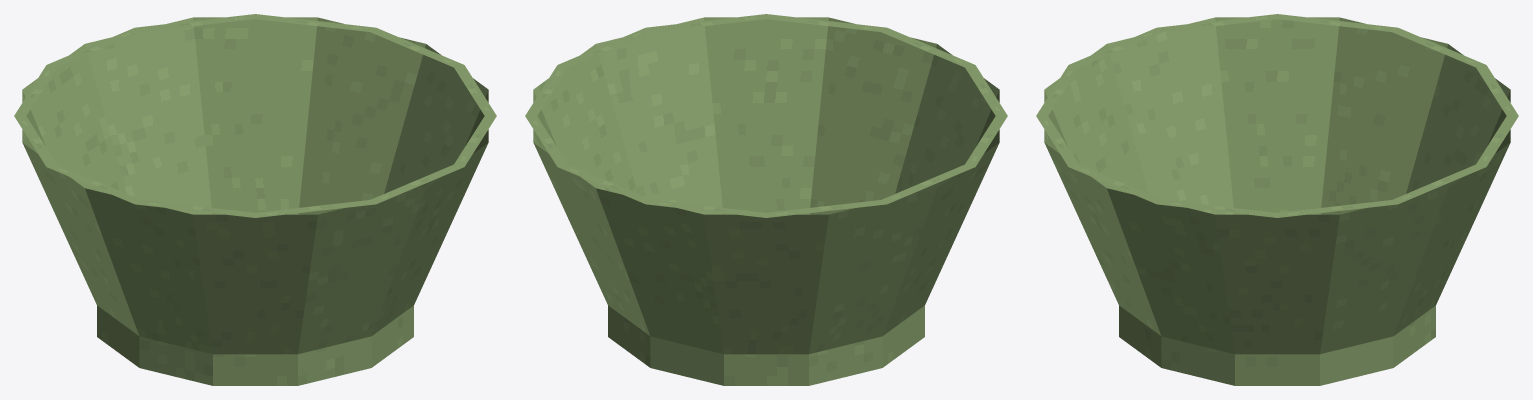
File: plastic_bowl_kids.glb
3 renders of one model, left to right at view 1: azimuth 30°, elevation 25°; view 2: azimuth 150°, elevation 25°; view 3: azimuth 270°, elevation 25°, orthographic.
Visible parts, largest first — view 1: block_raised sides, block_thick foot, block_rolled rim 9, block_rolled rim 10, block_rolled rim 3, block_rolled rim 4, block_rolled rim 2, block_rolled rim 5, block_rolled rim 8, block_rolled rim 11, block_rolled rim 0, block_rolled rim 1 (+2 smaller); view 2: block_raised sides, block_thick foot, block_rolled rim 1, block_rolled rim 2, block_rolled rim 7, block_rolled rim 8, block_rolled rim 6, block_rolled rim 9, block_rolled rim 0, block_rolled rim 3, block_rolled rim 4, block_rolled rim 5 (+2 smaller); view 3: block_raised sides, block_thick foot, block_rolled rim 5, block_rolled rim 6, block_rolled rim 0, block_rolled rim 11, block_rolled rim 1, block_rolled rim 10, block_rolled rim 4, block_rolled rim 7, block_rolled rim 2, block_rolled rim 3 (+2 smaller).
Part boxes in pixels (x1,y1,x2,y2): block_raised sides: [22, 17, 488, 354]; block_thick foot: [97, 214, 413, 385]; block_rolled rim 9: [135, 14, 255, 31]; block_rolled rim 10: [255, 14, 375, 31]; block_rolled rim 3: [255, 200, 375, 217]; block_rolled rim 4: [135, 200, 255, 217]; block_rolled rim 2: [370, 164, 463, 204]; block_rolled rim 5: [47, 164, 140, 204]; block_rolled rim 8: [47, 27, 140, 67]; block_rolled rim 11: [370, 27, 463, 67]; block_rolled rim 0: [454, 65, 496, 115]; block_rolled rim 1: [454, 116, 496, 166]; block_raised sides: [533, 17, 999, 354]; block_thick foot: [608, 214, 924, 385]; block_rolled rim 1: [646, 14, 766, 31]; block_rolled rim 2: [766, 14, 886, 31]; block_rolled rim 7: [766, 200, 886, 217]; block_rolled rim 8: [646, 200, 766, 217]; block_rolled rim 6: [881, 164, 974, 204]; block_rolled rim 9: [558, 164, 651, 204]; block_rolled rim 0: [558, 27, 651, 67]; block_rolled rim 3: [881, 27, 974, 67]; block_rolled rim 4: [965, 65, 1007, 115]; block_rolled rim 5: [965, 116, 1007, 166]; block_raised sides: [1044, 17, 1510, 354]; block_thick foot: [1119, 214, 1435, 385]; block_rolled rim 5: [1157, 14, 1277, 31]; block_rolled rim 6: [1277, 14, 1397, 31]; block_rolled rim 0: [1157, 200, 1277, 217]; block_rolled rim 11: [1277, 200, 1397, 217]; block_rolled rim 1: [1069, 164, 1162, 204]; block_rolled rim 10: [1392, 164, 1485, 204]; block_rolled rim 4: [1069, 27, 1162, 67]; block_rolled rim 7: [1392, 27, 1485, 67]; block_rolled rim 2: [1036, 116, 1078, 166]; block_rolled rim 3: [1036, 65, 1078, 115].
Size of the model in its own units: 0.138 by 0.064 by 0.138.
Materials: 2 (2 with a texture image).
